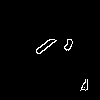J: (25, 25, 77, 74)
